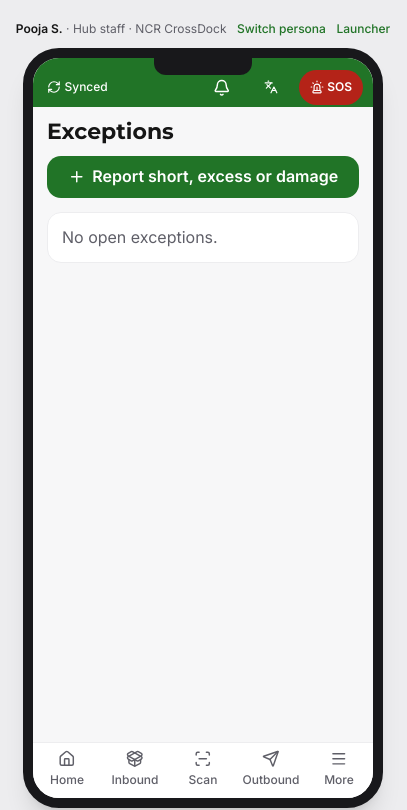
Scenario: Exceptions: PA-18, PA-30, PP-20, PP-21, PA-12 › Pooja reports a short piece at the hub: the ticket goes to the previous leg
Click the link "Report short, excess or damage".
click(203, 176)  # box [47, 156, 359, 198]
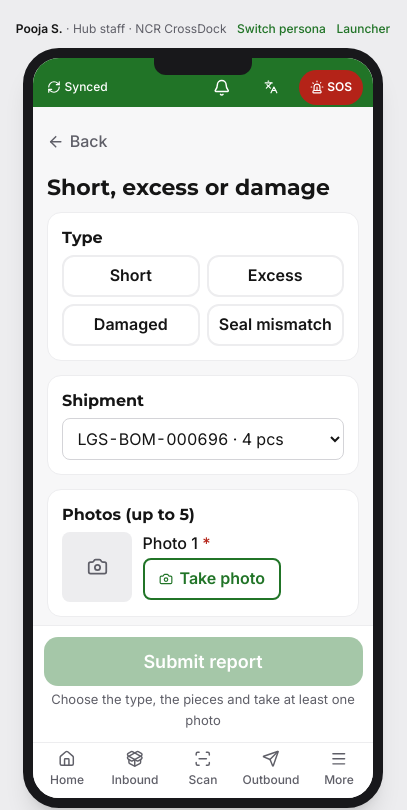
Click the radio button labelled "Short".
click(131, 276)  # box [62, 254, 200, 296]
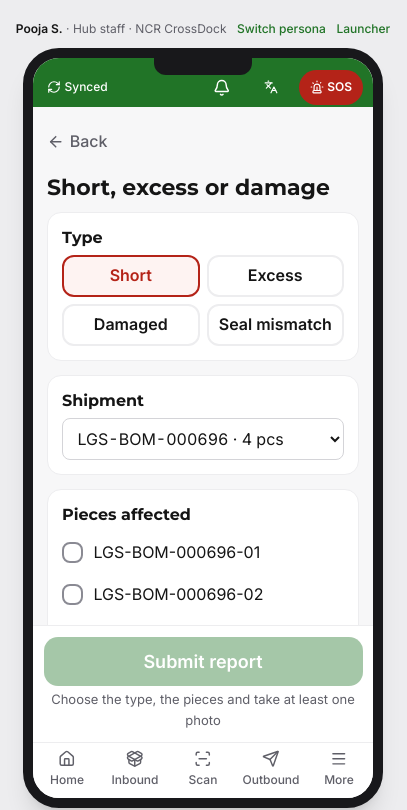
Click the checkbox labelled "LGS-BOM-000696-01".
click(203, 552)  # box [62, 532, 344, 574]
(page scrolled)
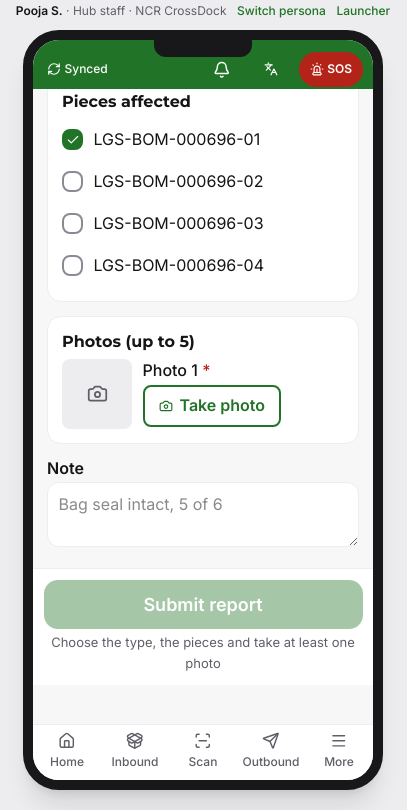
Click the button "Take photo".
click(212, 406)  # box [142, 385, 281, 427]
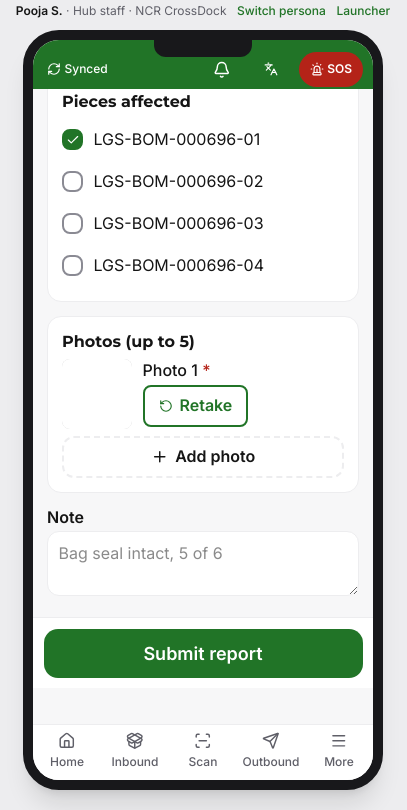
Click the button "Submit report".
click(203, 653)  # box [44, 628, 362, 678]
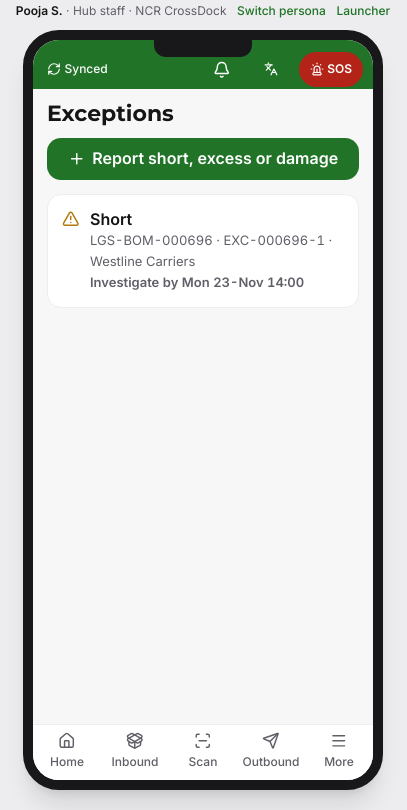
Expected: the heading "Exceptions" is shown, [47, 100, 174, 126]
